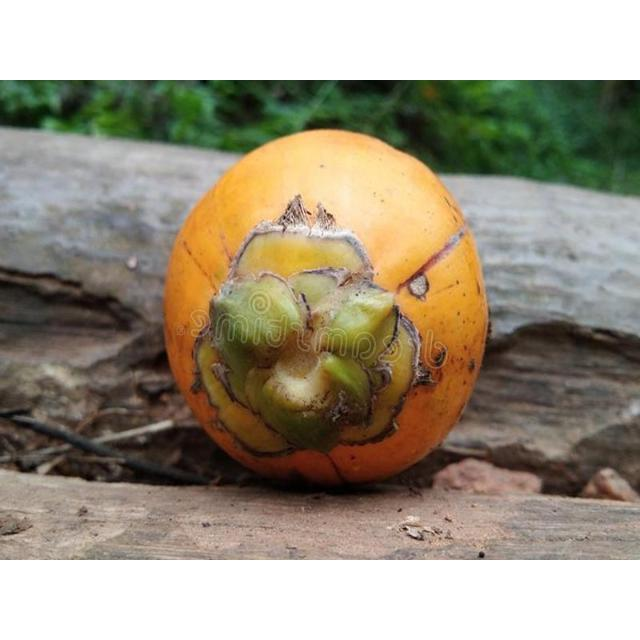good: (165, 130, 488, 482)
